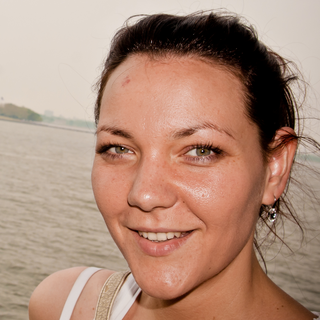eye: (169, 141, 232, 167), (93, 138, 141, 164)
